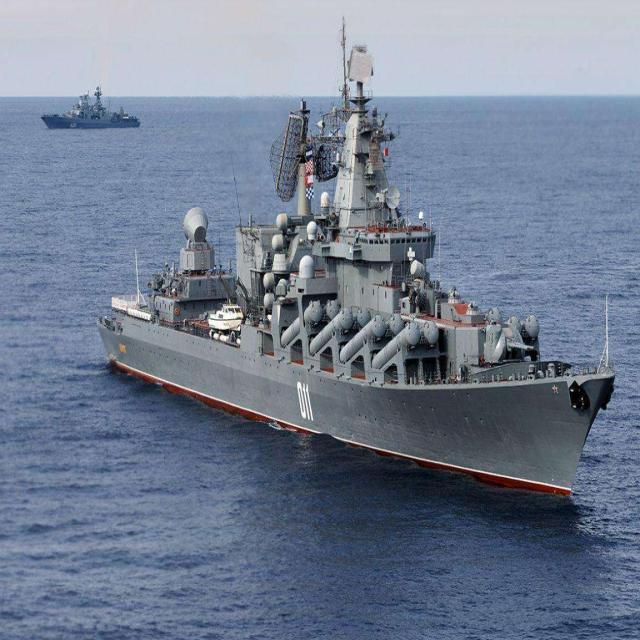navalvessels: (91, 44, 605, 534), (27, 62, 154, 138)
